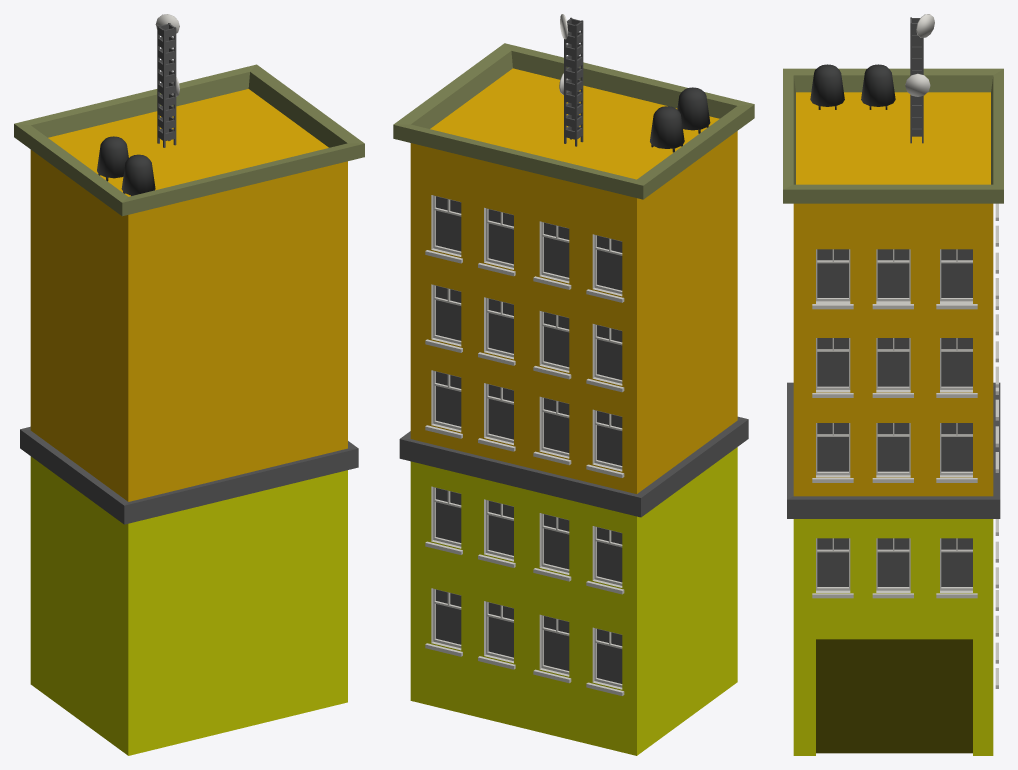
File: Flat3.fbx
3 views of the same model, side by side, from view 1: azimuth 30°, elevation 25°; view 2: azimuth 150°, elevation 25°; view 3: azimuth 270°, elevation 25° (orthographic). The views are drawn at different scales.
Visible parts, largest first — view 1: flat3; view 2: flat3; view 3: flat3.
Boxes of the visible parts, x1,y1,x2,y2 form: flat3: [14, 14, 364, 755]; flat3: [393, 14, 754, 755]; flat3: [783, 14, 1003, 755].
Size of the model in its own units: 5.8 by 15.27 by 4.47.
